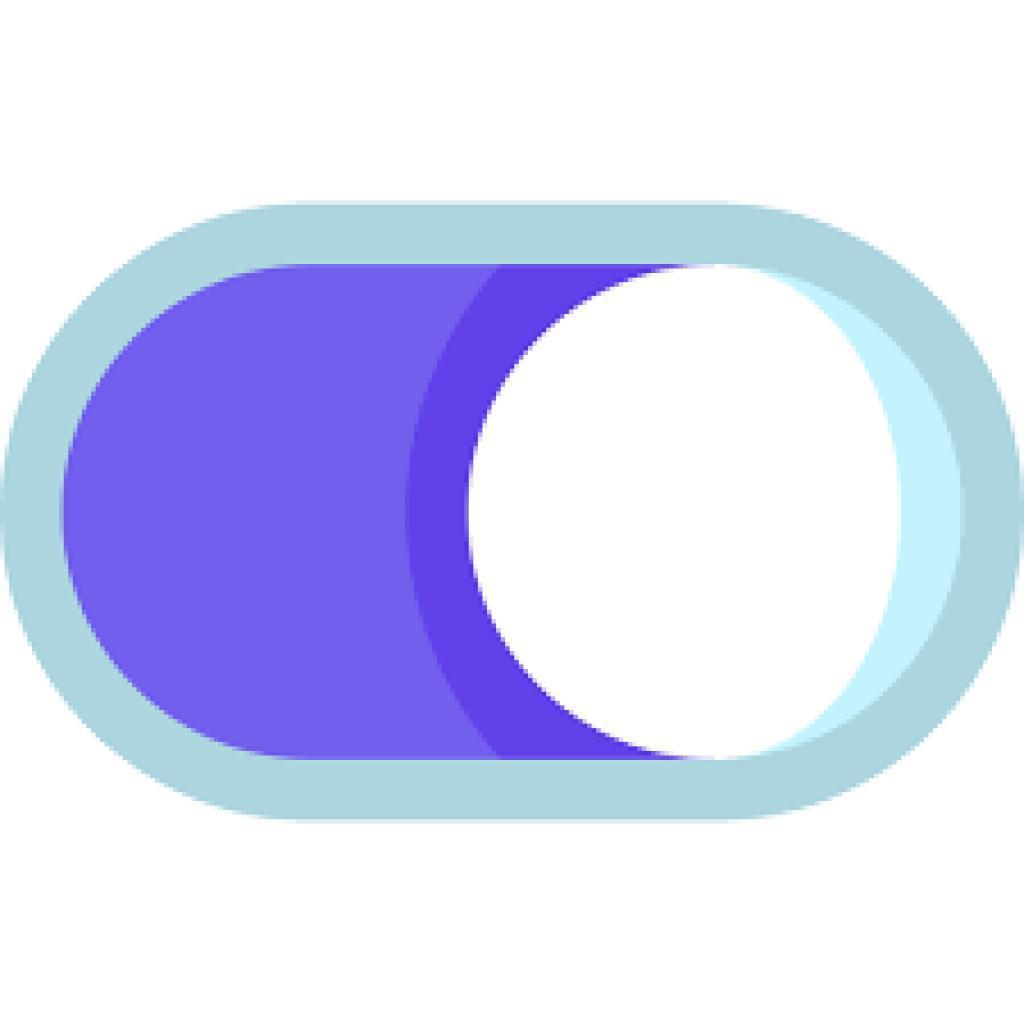switch: (2, 201, 1024, 825)
